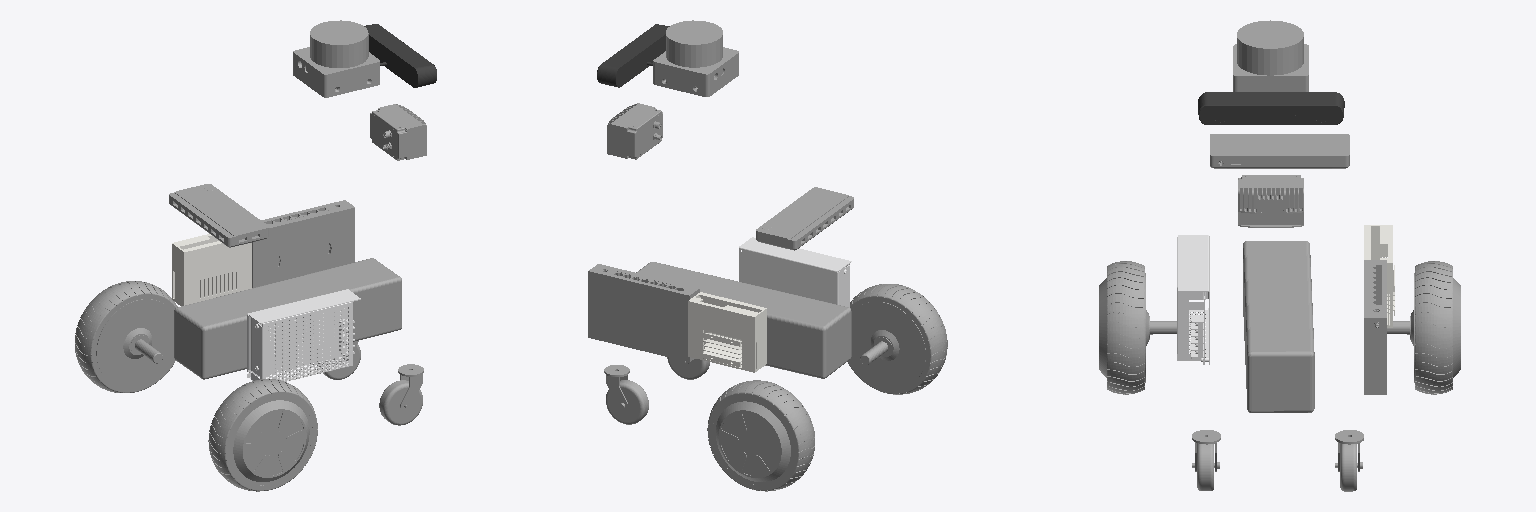
robot.urdf — engix:
<?xml version="1.0" encoding="utf-8"?>
<!-- =================================================================================== -->
<!-- |    This document was autogenerated by xacro from engix.xacro                    | -->
<!-- |    EDITING THIS FILE BY HAND IS NOT RECOMMENDED                                 | -->
<!-- =================================================================================== -->
<robot name="engix">
  <material name="silver_default">
    <color rgba="0.700 0.700 0.700 1.000"/>
  </material>
  <material name="plate">
    <color rgba="0.3137254901960784 0.3137254901960784 0.3137254901960784 1.0"/>
  </material>
  <material name="paint_metallic_silver">
    <color rgba="0.984313725490196 0.9803921568627451 0.9607843137254902 1.0"/>
  </material>
  <material name="aluminum_satin">
    <color rgba="0.9607843137254902 0.9607843137254902 0.9647058823529412 1.0"/>
  </material>
  <!--https://wiki.ros.org/ros_control-->
  <transmission name="left_wheel_tran">
    <type>transmission_interface/SimpleTransmission</type>
    <joint name="left_wheel">
      <hardwareInterface>hardware_interface/VelocityJointInterface</hardwareInterface>
    </joint>
    <actuator name="left_wheel_actr">
      <hardwareInterface>hardware_interface/VelocityJointInterface</hardwareInterface>
      <mechanicalReduction>1</mechanicalReduction>
    </actuator>
  </transmission>
  <transmission name="right_wheel_tran">
    <type>transmission_interface/SimpleTransmission</type>
    <joint name="right_wheel">
      <hardwareInterface>hardware_interface/VelocityJointInterface</hardwareInterface>
    </joint>
    <actuator name="right_wheel_actr">
      <hardwareInterface>hardware_interface/VelocityJointInterface</hardwareInterface>
      <mechanicalReduction>1</mechanicalReduction>
    </actuator>
  </transmission>

<gazebo>
  <plugin name="p3d_base_controller" filename="libgazebo_ros_p3d.so">
    <alwaysOn>true</alwaysOn>
    <updateRate>50.0</updateRate>
    <bodyName>base_link</bodyName>
    <topicName>ground_truth/state</topicName>
    <gaussianNoise>0.01</gaussianNoise>
    <frameName>map</frameName>
    <xyzOffsets>0 0 0</xyzOffsets>
    <rpyOffsets>0 0 0</rpyOffsets>
  </plugin>
</gazebo>


<!-- 
<gazebo>
  <plugin name="differential_drive_controller" filename="libgazebo_ros_diff_drive.so">
    <robotNamespace>engix</robotNamespace>
    <legacyMode>true</legacyMode>
    <alwaysOn>true</alwaysOn>
    <publishWheelTF>false</publishWheelTF>
    <publishOdomTF>true</publishOdomTF>
    <publishTf>true</publishTf>
    <publishWheelJointState>true</publishWheelJointState>
    <updateRate>50.0</updateRate>
    <leftJoint>left_wheel</leftJoint>
    <rightJoint>right_wheel</rightJoint>
    <wheelSeparation>0.365</wheelSeparation>
    <wheelDiameter>0.156</wheelDiameter>
    <wheelAcceleration>1.0</wheelAcceleration>
    <wheelTorque>5</wheelTorque>
    <commandTopic>cmd_vel</commandTopic>
    <odometryTopic>odom</odometryTopic>
    <odometryFrame>odom</odometryFrame>
    <robotBaseFrame>base_footprint</robotBaseFrame>
    <odometrySource>world</odometrySource>
  </plugin>
</gazebo>
 -->
  <gazebo reference="laser">
    <sensor name="head_rplidar_sensor" type="ray">
      <pose>0 0 0.06 0 0 0</pose>
      <visualize>false</visualize>
      <update_rate>40</update_rate>
      <ray>
        <scan>
          <horizontal>
            <samples>720</samples>
            <resolution>1</resolution>
            <min_angle>-3.14159265</min_angle>
            <max_angle>3.14159265</max_angle>
          </horizontal>
        </scan>
        <range>
          <min>0.2</min>
          <max>7.0</max>
          <resolution>0.01</resolution>
        </range>
        <noise>
          <type>gaussian</type>
          <mean>0.0</mean>
          <stddev>0.01</stddev>
        </noise>
      </ray>
      <plugin filename="libgazebo_ros_laser.so" name="gazebo_ros_head_rplidar_controller">
        <topicName>scan</topicName>
        <frameName>laser</frameName>
      </plugin>
    </sensor>
  </gazebo>
  <gazebo>
    <plugin filename="libgazebo_ros_control.so" name="gazebo_ros_control">
      <robotNamespace>/</robotNamespace>
      <legacyModeNS>true</legacyModeNS>
    </plugin>
  </gazebo>
  <gazebo>
    <plugin filename="libgazebo_ros_imu.so" name="gazebo_imu_plugin">
      <robotNamespace>/</robotNamespace>
      <topicName>imu/data</topicName>
      <serviceName>imu_service</serviceName>
      <bodyName>base_link</bodyName>
      <gaussianNoise>0</gaussianNoise>
      <rpyOffsets>0 0 0</rpyOffsets>
      <updateRate>20.0</updateRate>
      <alwaysOn>true</alwaysOn>
    </plugin>
  </gazebo>
  <gazebo>
    <plugin filename="libhector_gazebo_ros_gps.so" name="gps_controller">
      <robotNamespace>/</robotNamespace>
      <updateRate>40</updateRate>
      <bodyName>base_link</bodyName>
      <frameId>base_link</frameId>
      <topicName>navsat/fix</topicName>
      <velocityTopicName>navsat/vel</velocityTopicName>
      <referenceLatitude>49.9</referenceLatitude>
      <referenceLongitude>8.9</referenceLongitude>
      <referenceHeading>0</referenceHeading>
      <referenceAltitude>0</referenceAltitude>
      <drift>0.0001 0.0001 0.0001</drift>
    </plugin>
  </gazebo>
  <gazebo reference="imu_link">
</gazebo>
  <!--
<gazebo reference="base_footprint">
  <material>Gazebo/Grey</material>
  <mu1>0.2</mu1>
  <mu2>0.2</mu2>
  <selfCollide>true</selfCollide>
  <gravity>true</gravity>
</gazebo>
-->
  <gazebo reference="base_link">
    <material>Gazebo/Grey</material>
    <!-- <mu1>0.0</mu1> -->
    <!-- <mu2>0.0</mu2> -->
    <!-- <selfCollide>true</selfCollide> -->
    <!-- <gravity>true</gravity> -->
  </gazebo>
  <gazebo reference="lwheel">
    <material>Gazebo/Black</material>
    <!-- <mu1>1.5</mu1> -->
    <!-- <mu2>1.5</mu2> -->
    <!-- <kp value="10000000.0"/> -->
    <!-- <kd value="10.0"/> -->
    <!-- <fdir1 value="1 0 0"/> -->
    <!-- <selfCollide>true</selfCollide> -->
  </gazebo>
  <gazebo reference="rwheel">
    <material>Gazebo/Black</material>
    <!-- <mu1>1.5</mu1> -->
    <!-- <mu2>1.5</mu2> -->
    <!-- <kp value="10000000.0"/> -->
    <!-- <kd value="10.0"/> -->
    <!-- <fdir1 value="1 0 0"/> -->
    <!-- <selfCollide>true</selfCollide> -->
  </gazebo>
  <gazebo reference="ZED2_1">
    <material>Gazebo/Black</material>
    <!-- <mu1>0.0</mu1> -->
    <!-- <mu2>0.0</mu2> -->
    <!-- <selfCollide>true</selfCollide> -->
  </gazebo>
  <gazebo reference="dc_dc_1">
    <material>Gazebo/Gray</material>
    <!-- <mu1>0.0</mu1> -->
    <!-- <mu2>0.0</mu2> -->
    <!-- <selfCollide>true</selfCollide> -->
  </gazebo>
  <gazebo reference="battery_1">
    <material>Gazebo/Black</material>
    <!-- <mu1>0.0</mu1> -->
    <!-- <mu2>0.0</mu2> -->
    <!-- <selfCollide>true</selfCollide> -->
  </gazebo>
  <gazebo reference="jetson_nano_1">
    <material>Gazebo/Green</material>
    <!-- <mu1>0.0</mu1> -->
    <!-- <mu2>0.0</mu2> -->
    <!-- <selfCollide>true</selfCollide> -->
  </gazebo>
  <gazebo reference="lan_1">
    <material>Gazebo/Gray</material>
    <!-- <mu1>0.0</mu1> -->
    <!-- <mu2>0.0</mu2> -->
    <!-- <selfCollide>true</selfCollide> -->
  </gazebo>
  <gazebo reference="gps_1">
    <material>Gazebo/Green</material>
    <!-- <mu1>0.0</mu1> -->
    <!-- <mu2>0.0</mu2> -->
    <!-- <selfCollide>true</selfCollide> -->
  </gazebo>
  <gazebo reference="laser">
    <material>Gazebo/Black</material>
    <!-- <mu1>0.0</mu1> -->
    <!-- <mu2>0.0</mu2> -->
    <!-- <selfCollide>true</selfCollide> -->
  </gazebo>
  <gazebo reference="usb_hub_1">
    <material>Gazebo/Black</material>
    <!-- <mu1>0.0</mu1> -->
    <!-- <mu2>0.0</mu2> -->
    <!-- <selfCollide>true</selfCollide> -->
  </gazebo>
  <gazebo reference="lidar_tof_1">
    <material>Gazebo/Black</material>
    <!-- <mu1>0.0</mu1> -->
    <!-- <mu2>0.0</mu2> -->
    <!-- <selfCollide>true</selfCollide> -->
  </gazebo>
  <gazebo reference="caster_right">
    <!-- <mu1>1.0</mu1> -->
    <!-- <mu2>1.0</mu2> -->
    <!-- <kp value="10000000.0"/> -->
    <!-- <kd value="1.0"/> -->
    <material>$Gazebo/Silver</material>
    <!-- <turnGravityOff>false</turnGravityOff> -->
    <!-- <selfCollide>true</selfCollide> -->
  </gazebo>
  <gazebo reference="caster_left">
    <!-- <mu1>1.0</mu1> -->
    <!-- <mu2>1.0</mu2> -->
    <!-- <kp value="10000000.0"/> -->
    <!-- <kd value="1.0"/> -->
    <material>Gazebo/Silver</material>
    <!-- <turnGravityOff>false</turnGravityOff> -->
    <!-- <selfCollide>true</selfCollide> -->
  </gazebo>
  <gazebo reference="caster_wheel_left">
    <!-- <mu1>1.0</mu1> -->
    <!-- <mu2>1.0</mu2> -->
    <!-- <kp value="10000000.0"/> -->
    <!-- <kd value="1.0"/> -->
    <!-- <fdir1 value="1 0 0"/> -->
    <material>Gazebo/Blue</material>
    <!-- <turnGravityOff>false</turnGravityOff> -->
    <!-- <selfCollide>true</selfCollide> -->
  </gazebo>
  <gazebo reference="caster_wheel_right">
    <!-- <mu1>1.0</mu1> -->
    <!-- <mu2>1.0</mu2> -->
    <!-- <kp value="10000000.0"/> -->
    <!-- <kd value="1.0"/> -->
    <!-- <fdir1 value="1 0 0"/> -->
    <material>Gazebo/Blue</material>
    <!-- <turnGravityOff>false</turnGravityOff> -->
    <!-- <selfCollide>true</selfCollide> -->
  </gazebo>
 
  
  <!-- <link name="base_footprint"/>
  <joint name="base_footprint_joint" type="fixed">
    <origin rpy="0 0 0" xyz="0 0 0"/>
    <parent link="base_footprint"/>
    <child link="base_link"/>
  </joint> -->
  <!--Inertial link stores the robot's inertial information !!!! RE_EDIT-->
  <link name="inertial_link">
    <inertial>
      <mass value="15.034"/>
      <origin xyz="0.0005263550102558459 -0.0008435206011111315 0.2088531479687758"/>
      <inertia ixx="0.298693" ixy="0.003154" ixz="-0.020052" iyy="0.45471" iyz="0.003425" izz="0.326894"/>
    </inertial>
  </link>
  <joint name="inertial_joint" type="fixed">
    <origin rpy="0 0 0" xyz="0 0 0"/>
    <parent link="base_link"/>
    <child link="inertial_link"/>
  </joint>
  <link name="base_link">
    <!--<inertial>
    <origin rpy="0 0 0" xyz="0.0005263550102558459 -0.0008435206011111315 0.2088531479687758"/>
    <mass value="15.0"/>
    <inertia ixx="0.298693" ixy="0.003154" ixz="-0.020052" iyy="0.45471" iyz="0.003425" izz="0.326894"/>
  </inertial> -->
    <visual>
      <origin rpy="0 0 0" xyz="0 0 0"/>
      <geometry>
        <mesh filename="package://engix_description/meshes/base_link.stl" scale="0.001 0.001 0.001"/>
      </geometry>
      <material name="silver_default"/>
    </visual>
    <collision>
      <origin rpy="0 0 0" xyz="0 0 0"/>
      <geometry>
        <mesh filename="package://engix_description/meshes/base_link.stl" scale="0.001 0.001 0.001"/>
      </geometry>
    </collision>
  </link>
  <link name="lwheel">
    <inertial>
      <origin rpy="0 0 0" xyz="9.457707256244063e-09 0.03585438960934953 7.241215550846114e-06"/>
      <mass value="2.5"/>
      <inertia ixx="0.001585" ixy="-0.0" ixz="0.0" iyy="0.002703" iyz="0.0" izz="0.001585"/>
    </inertial>
    <visual>
      <origin rpy="0 0 0" xyz="0.133355 -0.150817 -0.079162"/>
      <geometry>
        <mesh filename="package://engix_description/meshes/lwheel_1.stl" scale="0.001 0.001 0.001"/>
      </geometry>
      <material name="silver_default"/>
    </visual>
    <collision>
      <origin rpy="0 0 0" xyz="0.133355 -0.150817 -0.079162"/>
      <geometry>
        <mesh filename="package://engix_description/meshes/lwheel_1.stl" scale="0.001 0.001 0.001"/>
      </geometry>
    </collision>
  </link>
  <link name="rwheel">
    <inertial>
      <origin rpy="0 0 0" xyz="-6.147258196920191e-08 -0.035854161349757635 6.622358018903984e-06"/>
      <mass value="2.5"/>
      <inertia ixx="0.001585" ixy="-0.0" ixz="0.0" iyy="0.002703" iyz="-0.0" izz="0.001585"/>
    </inertial>
    <visual>
      <origin rpy="0 0 0" xyz="0.133355 0.146183 -0.079162"/>
      <geometry>
        <mesh filename="package://engix_description/meshes/rwheel_1.stl" scale="0.001 0.001 0.001"/>
      </geometry>
      <material name="silver_default"/>
    </visual>
    <collision>
      <origin rpy="0 0 0" xyz="0.133355 0.146183 -0.079162"/>
      <geometry>
        <mesh filename="package://engix_description/meshes/rwheel_1.stl" scale="0.001 0.001 0.001"/>
      </geometry>
    </collision>
  </link>
  <link name="ZED2_1">
    <!--<inertial>
    <origin rpy="0 0 0" xyz="-0.000581501231995768 -0.018000727408692088 0.014361531099989666"/>
    <mass value="0.15"/>
    <inertia ixx="0.002923" ixy="0.0" ixz="0.0" iyy="0.000179" iyz="-0.0" izz="0.002942"/>
  </inertial>-->
    <visual>
      <origin rpy="0 0 0" xyz="-0.176645 -0.00992 -0.4957"/>
      <geometry>
        <mesh filename="package://engix_description/meshes/ZED2_1.stl" scale="0.001 0.001 0.001"/>
      </geometry>
      <material name="plate"/>
    </visual>
    <!--<collision>
    <origin rpy="0 0 0" xyz="-0.176645 -0.00992 -0.4957"/>
    <geometry>
      <mesh filename="package://engix_description/meshes/ZED2_1.stl" scale="0.001 0.001 0.001"/>
    </geometry>
  </collision>-->
  </link>
  <link name="imu_link"/>
  <joint name="imu_joint" type="fixed">
    <parent link="base_link"/>
    <child link="imu_link"/>
    <origin rpy="0 0 0" xyz="0.176645 0.00992 0.4957"/>
  </joint>
  <link name="laser">
    <visual>
      <geometry>
        <cylinder length="0.04" radius="0.04"/>
      </geometry>
      <origin rpy="0 0 0" xyz="0 0 0"/>
      <material name="silver_default"/>
    </visual>
  </link>
  <link name="dc_dc_1">
    <visual>
      <origin rpy="0 0 0" xyz="-0.027645 0.10808 -0.2157"/>
      <geometry>
        <mesh filename="package://engix_description/meshes/dc_dc_1.stl" scale="0.001 0.001 0.001"/>
      </geometry>
      <material name="aluminum_satin"/>
    </visual>
  </link>
  <link name="battery_1">

    <visual>
      <origin rpy="0 0 0" xyz="-0.011102 -0.015765 -0.1077"/>
      <geometry>
        <mesh filename="package://engix_description/meshes/battery_1.stl" scale="0.001 0.001 0.001"/>
      </geometry>
      <material name="silver_default"/>
    </visual>
  </link>
  <link name="jetson_nano_1">
    <visual>
      <origin rpy="0 0 0" xyz="0.02108 -0.10192 -0.21904"/>
      <geometry>
        <mesh filename="package://engix_description/meshes/jetson_nano_1.stl" scale="0.001 0.001 0.001"/>
      </geometry>
      <material name="paint_metallic_silver"/>
    </visual>
  </link>
  <link name="lan_1">
    <visual>
      <origin rpy="0 0 0" xyz="-0.07857 -0.10192 -0.2157"/>
      <geometry>
        <mesh filename="package://engix_description/meshes/lan_1.stl" scale="0.001 0.001 0.001"/>
      </geometry>
      <material name="silver_default"/>
    </visual>
  </link>
  <link name="gps_1">
    <visual>
      <origin rpy="0 0 0" xyz="-0.112558 0.00808 -0.4957"/>
      <geometry>
        <mesh filename="package://engix_description/meshes/gps_1.stl" scale="0.001 0.001 0.001"/>
      </geometry>
      <material name="silver_default"/>
    </visual>
  </link>
  <link name="usb_hub_1">
    <visual>
      <origin rpy="0 0 0" xyz="0.077355 -0.00192 -0.3177"/>
      <geometry>
        <mesh filename="package://engix_description/meshes/usb_hub_1.stl" scale="0.001 0.001 0.001"/>
      </geometry>
      <material name="silver_default"/>
    </visual>
  </link>
  <link name="lidar_tof_1">
    <visual>
      <origin rpy="0 0 0" xyz="-0.157645 0.04512 -0.3677"/>
      <geometry>
        <mesh filename="package://engix_description/meshes/lidar_tof_1.stl" scale="0.001 0.001 0.001"/>
      </geometry>
      <material name="silver_default"/>
    </visual>
    <!-- <collision>
      <origin rpy="0 0 0" xyz="-0.157645 0.04512 -0.3677"/>
      <geometry>
        <mesh filename="package://engix_description/meshes/lidar_tof_1.stl" scale="0.001 0.001 0.001"/>
      </geometry>
    </collision> -->
  </link>
  <link name="caster_right">
    <inertial>
      <origin rpy="0 0 0" xyz="-0.004690059190597118 -0.00031884478947080686 -0.01885204625585646"/>
      <mass value="0.3"/>
      <inertia ixx="2.5e-05" ixy="0.0" ixz="-6e-06" iyy="2.3e-05" iyz="0.0" izz="1.2e-05"/>
    </inertial>
    <visual>
      <origin rpy="0 0 0" xyz="-0.155465 0.084832 -0.072019"/>
      <geometry>
        <mesh filename="package://engix_description/meshes/caster_right_1.stl" scale="0.001 0.001 0.001"/>
      </geometry>
      <material name="silver_default"/>
    </visual>
    <collision>
      <origin rpy="0 0 0" xyz="-0.155465 0.084832 -0.072019"/>
      <geometry>
        <mesh filename="package://engix_description/meshes/caster_right_1.stl" scale="0.001 0.001 0.001"/>
      </geometry>
    </collision>
  </link>
  <link name="caster_left">
    <inertial>
      <origin rpy="0 0 0" xyz="-0.004690059190596646 -0.00031884478947068196 -0.01885204625585646"/>
      <mass value="0.3"/>
      <inertia ixx="2.5e-05" ixy="0.0" ixz="-6e-06" iyy="2.3e-05" iyz="0.0" izz="1.2e-05"/>
    </inertial>
    <visual>
      <origin rpy="0 0 0" xyz="-0.155465 -0.085168 -0.071999"/>
      <geometry>
        <mesh filename="package://engix_description/meshes/caster_left_1.stl" scale="0.001 0.001 0.001"/>
      </geometry>
      <material name="silver_default"/>
    </visual>
    <collision>
      <origin rpy="0 0 0" xyz="-0.155465 -0.085168 -0.071999"/>
      <geometry>
        <mesh filename="package://engix_description/meshes/caster_left_1.stl" scale="0.001 0.001 0.001"/>
      </geometry>
    </collision>
  </link>
  <link name="caster_wheel_left">
    <inertial>
      <origin rpy="0 0 0" xyz="1.9061138764597807e-07 0.0014995854065302239 1.7385093787486428e-07"/>
      <mass value="0.5"/>
      <inertia ixx="1.6e-05" ixy="-0.0" ixz="-0.0" iyy="2.9e-05" iyz="-0.0" izz="1.6e-05"/>
    </inertial>
    <visual>
      <origin rpy="0 0 0" xyz="-0.139465 -0.082668 -0.025999"/>
      <geometry>
        <mesh filename="package://engix_description/meshes/caster_wheel_left_1.stl" scale="0.001 0.001 0.001"/>
      </geometry>
      <material name="silver_default"/>
    </visual>
    <collision>
      <origin rpy="0 0 0" xyz="-0.139465 -0.082668 -0.025999"/>
      <geometry>
        <mesh filename="package://engix_description/meshes/caster_wheel_left_1.stl" scale="0.001 0.001 0.001"/>
      </geometry>
    </collision>
  </link>
  <link name="caster_wheel_right">
    <inertial>
      <origin rpy="0 0 0" xyz="1.905032832039133e-07 0.0014995854065301545 1.78805265319687e-07"/>
      <mass value="0.5"/>
      <inertia ixx="1.6e-05" ixy="0.0" ixz="0.0" iyy="2.9e-05" iyz="-0.0" izz="1.6e-05"/>
    </inertial>
    <visual>
      <origin rpy="0 0 0" xyz="-0.139465 0.087332 -0.026019"/>
      <geometry>
        <mesh filename="package://engix_description/meshes/caster_wheel_right_1.stl" scale="0.001 0.001 0.001"/>
      </geometry>
      <material name="silver_default"/>
    </visual>
    <collision>
      <origin rpy="0 0 0" xyz="-0.139465 0.087332 -0.026019"/>
      <geometry>
        <mesh filename="package://engix_description/meshes/caster_wheel_right_1.stl" scale="0.001 0.001 0.001"/>
      </geometry>
    </collision>
  </link>
  <joint name="left_wheel" type="continuous">
    <origin rpy="0 0 0" xyz="-0.133355 0.150817 0.079162"/>
    <parent link="base_link"/>
    <child link="lwheel"/>
    <axis xyz="0.0 1.0 -0.0"/>
  </joint>
  <joint name="right_wheel" type="continuous">
    <origin rpy="0 0 0" xyz="-0.133355 -0.146183 0.079162"/>
    <parent link="base_link"/>
    <child link="rwheel"/>
    <axis xyz="0.0 1.0 -0.0"/>
  </joint>
  <joint name="ZED2_joint" type="fixed">
    <origin rpy="0 0 0" xyz="0.176645 0.00992 0.4957"/>
    <parent link="base_link"/>
    <child link="ZED2_1"/>
  </joint>
  <joint name="dc_dc_joint" type="fixed">
    <origin rpy="0 0 0" xyz="0.027645 -0.10808 0.2157"/>
    <parent link="base_link"/>
    <child link="dc_dc_1"/>
  </joint>
  <joint name="battery_joint" type="fixed">
    <origin rpy="0 0 0" xyz="0.011102 0.015765 0.1077"/>
    <parent link="base_link"/>
    <child link="battery_1"/>
  </joint>
  <joint name="jetson_nano_joint" type="fixed">
    <origin rpy="0 0 0" xyz="-0.02108 0.10192 0.21904"/>
    <parent link="base_link"/>
    <child link="jetson_nano_1"/>
  </joint>
  <joint name="lan_joint" type="fixed">
    <origin rpy="0 0 0" xyz="0.07857 0.10192 0.2157"/>
    <parent link="base_link"/>
    <child link="lan_1"/>
  </joint>
  <joint name="gps_joint" type="fixed">
    <origin rpy="0 0 0" xyz="0.112558 -0.00808 0.4957"/>
    <parent link="base_link"/>
    <child link="gps_1"/>
  </joint>
  <joint name="usb_hub_joint" type="fixed">
    <origin rpy="0 0 0" xyz="-0.077355 0.00192 0.3177"/>
    <parent link="base_link"/>
    <child link="usb_hub_1"/>
  </joint>
  <joint name="lidar_tof_joint" type="fixed">
    <origin rpy="0 0 0" xyz="0.157645 -0.04512 0.3677"/>
    <parent link="base_link"/>
    <child link="lidar_tof_1"/>
  </joint>
  <joint name="caster_right_joint" type="continuous">
    <origin rpy="0 0 0" xyz="0.155465 -0.084832 0.072019"/>
    <parent link="base_link"/>
    <child link="caster_right"/>
    <axis xyz="0.0 0.0 -1.0"/>
  </joint>
  <joint name="caster_left_joint" type="continuous">
    <origin rpy="0 0 0" xyz="0.155465 0.085168 0.071999"/>
    <parent link="base_link"/>
    <child link="caster_left"/>
    <axis xyz="0.0 0.0 -1.0"/>
  </joint>
  <joint name="caster_wheel_left_joint" type="continuous">
    <origin rpy="0 0 0" xyz="-0.016 -0.0025 -0.046"/>
    <parent link="caster_left"/>
    <child link="caster_wheel_left"/>
    <axis xyz="-0.0 -1.0 0.0"/>
  </joint>
  <joint name="caster_wheel_right_joint" type="continuous">
    <origin rpy="0 0 0" xyz="-0.016 -0.0025 -0.046"/>
    <parent link="caster_right"/>
    <child link="caster_wheel_right"/>
    <axis xyz="-0.0 -1.0 0.0"/>
  </joint>
  <joint name="rp_laser_joint" type="fixed">
    <axis xyz="0 0 0"/>
    <origin rpy="0 0 0" xyz="0.086 -0.00908 0.5457"/>
    <parent link="base_link"/>
    <child link="laser"/>
  </joint>
</robot>

--- Facts derived from the render (not from the file) ---
The picture shows the robot from 3 angles, left to right: view 1: azimuth 30°, elevation 25°; view 2: azimuth 150°, elevation 25°; view 3: azimuth 270°, elevation 25°; orthographic projection.
Model engix with 18 links and 17 joints (6 continuous, 11 fixed), rooted at base_link, posed every joint at zero.
Visible links, largest first — view 1: battery_1, rwheel, lwheel, dc_dc_1, lan_1, jetson_nano_1, usb_hub_1, lidar_tof_1, gps_1, laser, ZED2_1, caster_wheel_right (+1 smaller); view 2: lwheel, rwheel, battery_1, lan_1, jetson_nano_1, dc_dc_1, usb_hub_1, lidar_tof_1, gps_1, laser, ZED2_1, caster_wheel_left (+2 smaller); view 3: battery_1, rwheel, lwheel, usb_hub_1, ZED2_1, dc_dc_1, lidar_tof_1, laser, lan_1, gps_1, jetson_nano_1, caster_wheel_left (+1 smaller).
Boxes of the visible links, <box> form: battery_1: <box>174,258,401,379</box>; rwheel: <box>208,379,317,491</box>; lwheel: <box>75,281,177,392</box>; dc_dc_1: <box>247,289,360,381</box>; lan_1: <box>252,200,354,287</box>; jetson_nano_1: <box>172,234,251,305</box>; usb_hub_1: <box>169,184,268,247</box>; lidar_tof_1: <box>370,104,426,160</box>; gps_1: <box>293,47,379,97</box>; laser: <box>310,20,368,67</box>; ZED2_1: <box>364,24,436,87</box>; caster_wheel_right: <box>379,380,422,425</box>; lwheel: <box>707,380,814,491</box>; rwheel: <box>848,284,947,394</box>; battery_1: <box>636,262,851,378</box>; lan_1: <box>588,264,699,361</box>; jetson_nano_1: <box>688,292,766,372</box>; dc_dc_1: <box>739,237,851,307</box>; usb_hub_1: <box>756,187,853,250</box>; lidar_tof_1: <box>607,103,662,159</box>; gps_1: <box>653,47,738,96</box>; laser: <box>666,20,722,67</box>; ZED2_1: <box>597,24,669,87</box>; caster_wheel_left: <box>606,380,648,424</box>; battery_1: <box>1243,241,1314,412</box>; rwheel: <box>1099,261,1190,394</box>; lwheel: <box>1387,261,1460,394</box>; usb_hub_1: <box>1210,134,1349,168</box>; ZED2_1: <box>1198,92,1344,124</box>; dc_dc_1: <box>1177,235,1209,364</box>; lidar_tof_1: <box>1238,175,1303,227</box>; laser: <box>1237,20,1303,75</box>; lan_1: <box>1364,260,1386,394</box>; gps_1: <box>1233,44,1308,91</box>; jetson_nano_1: <box>1364,225,1394,327</box>; caster_wheel_left: <box>1340,443,1356,491</box>.
Size in the robot's own frame: 0.4204 by 0.429 by 0.5707 metres.
14 mesh visuals loaded from 15 distinct referenced files (14 binary STL); not drawn: 1 (reference not matched to a file when rendering).
